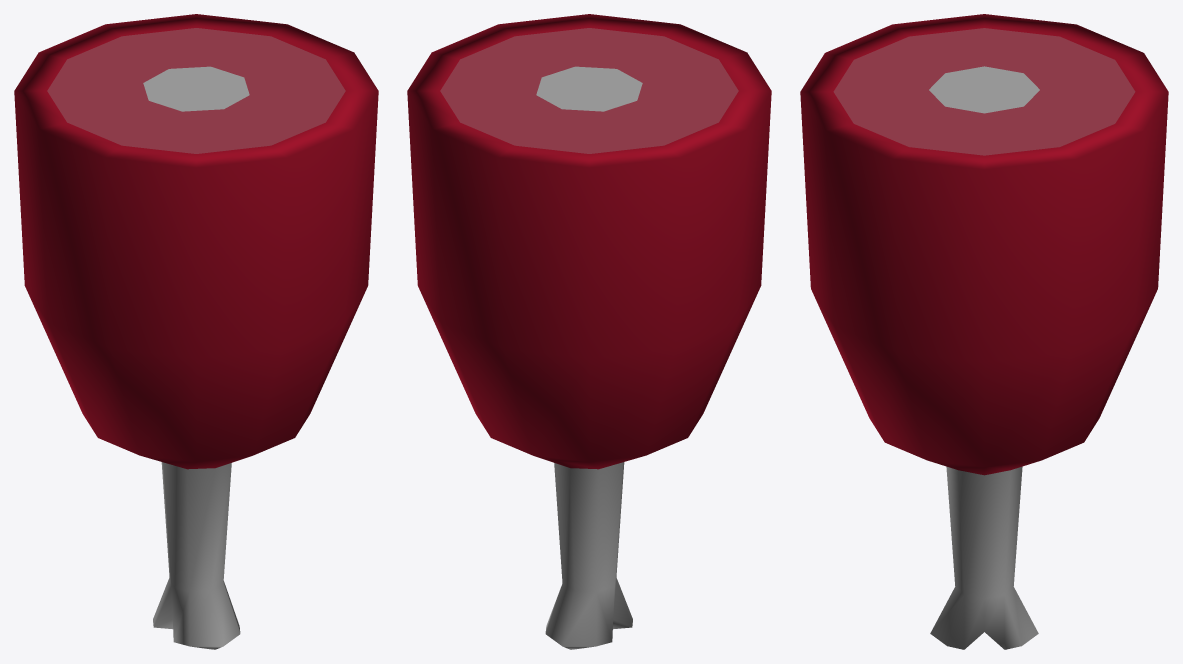
File: Meat_leg.fbx
3 renders of one model, left to right at view 1: azimuth 30°, elevation 25°; view 2: azimuth 150°, elevation 25°; view 3: azimuth 270°, elevation 25°, orthographic.
Visible parts, largest first — view 1: Leg_meat; view 2: Leg_meat; view 3: Leg_meat.
Part boxes in pixels (left/top/right/bottom): Leg_meat: left=14, top=14, right=378, bottom=649; Leg_meat: left=407, top=14, right=771, bottom=649; Leg_meat: left=800, top=14, right=1168, bottom=649.
Size of the model in its own units: 0.6129 by 1.02 by 0.6129.
